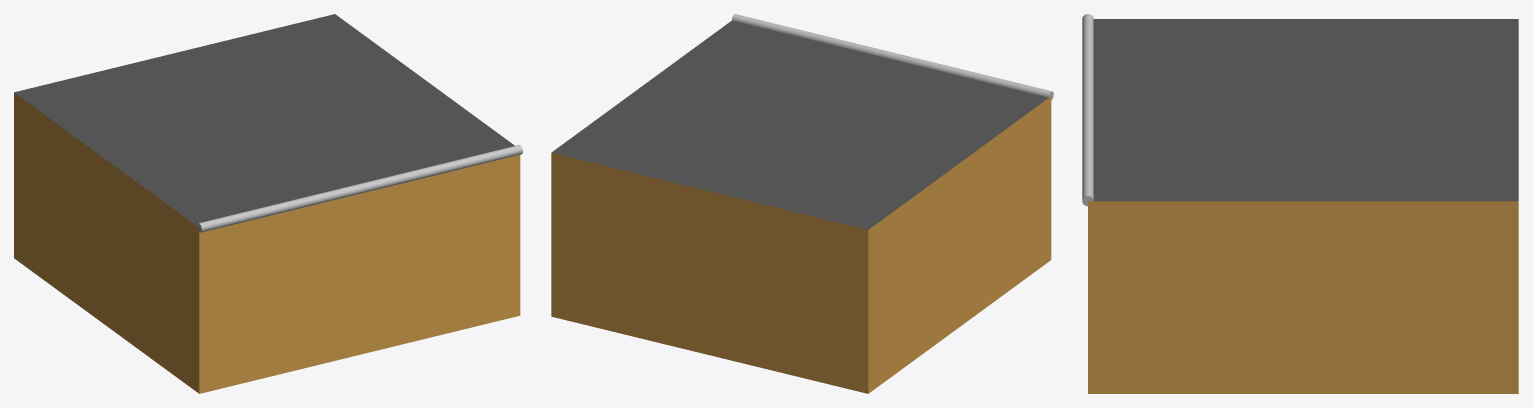
Rendered from Skate_Box_Single_Rail_01.FBX.
3 views of the same model, side by side, from view 1: azimuth 30°, elevation 25°; view 2: azimuth 150°, elevation 25°; view 3: azimuth 270°, elevation 25° (orthographic). The views are drawn at different scales.
Visible parts, largest first — view 1: Skate_Box_Single_Rail_01; view 2: Skate_Box_Single_Rail_01; view 3: Skate_Box_Single_Rail_01.
Part boxes in pixels (x1=…): Skate_Box_Single_Rail_01: x1=14, y1=14, x2=522, y2=393; Skate_Box_Single_Rail_01: x1=551, y1=14, x2=1053, y2=393; Skate_Box_Single_Rail_01: x1=1082, y1=14, x2=1518, y2=393.
Bounding box in the file's own units: 3 × 1.52 × 3.04.
